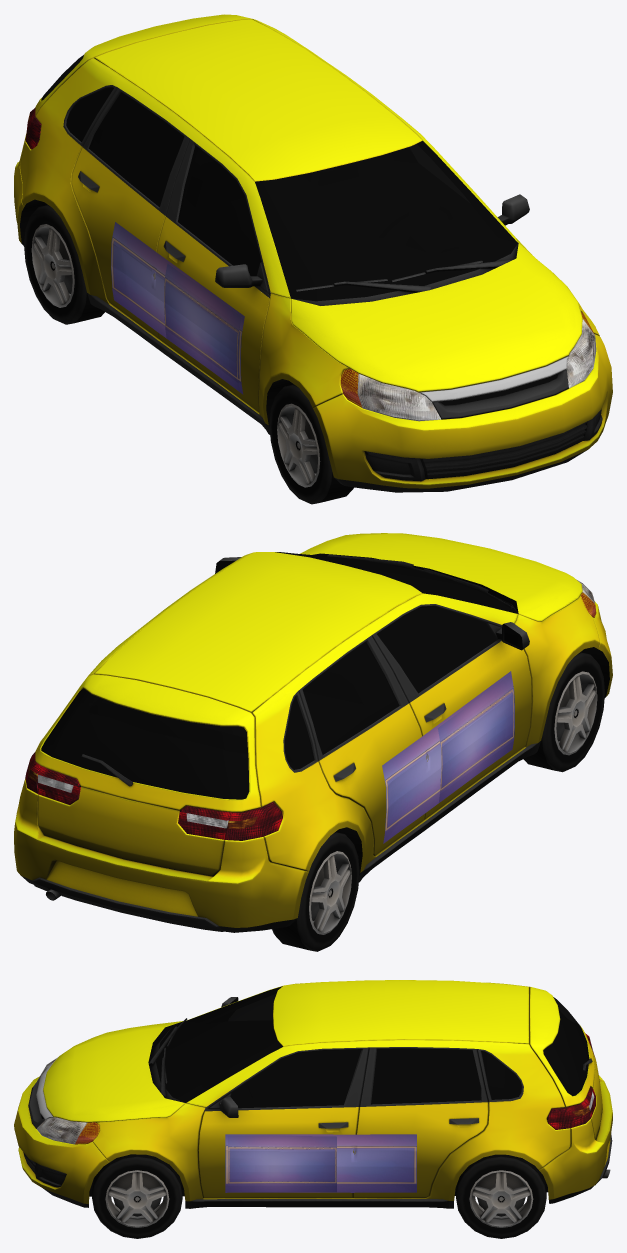
The model's file is medium.glb.
3 views of the same model, one above another, from view 1: azimuth 30°, elevation 25°; view 2: azimuth 150°, elevation 25°; view 3: azimuth 270°, elevation 25° (orthographic). The views are drawn at different scales.
Parts seen in each view (by area): view 1: Hatchback Body, sRight, Wheel_B002, Wheel_B003, dsRight; view 2: Hatchback Body, Wheel_B003, sRight, Wheel_B002, dsRight; view 3: Hatchback Body, Wheel_B, Wheel_B001, sLeft, dsLeft.
Boxes of the visible parts, x1,y1,x2,y2 form: Hatchback Body: [14, 14, 612, 492]; sRight: [164, 263, 241, 391]; Wheel_B002: [269, 384, 354, 504]; Wheel_B003: [24, 205, 104, 324]; dsRight: [111, 222, 244, 394]; Hatchback Body: [14, 533, 612, 932]; Wheel_B003: [272, 832, 359, 951]; sRight: [438, 674, 514, 802]; Wheel_B002: [523, 652, 604, 772]; dsRight: [382, 671, 514, 843]; Hatchback Body: [14, 980, 612, 1208]; Wheel_B: [92, 1154, 182, 1238]; Wheel_B001: [456, 1154, 546, 1238]; sLeft: [228, 1136, 336, 1192]; dsLeft: [225, 1134, 416, 1192].
Size of the model in its own units: 1.74 by 1.35 by 3.96.
5 materials, 4 textured.
